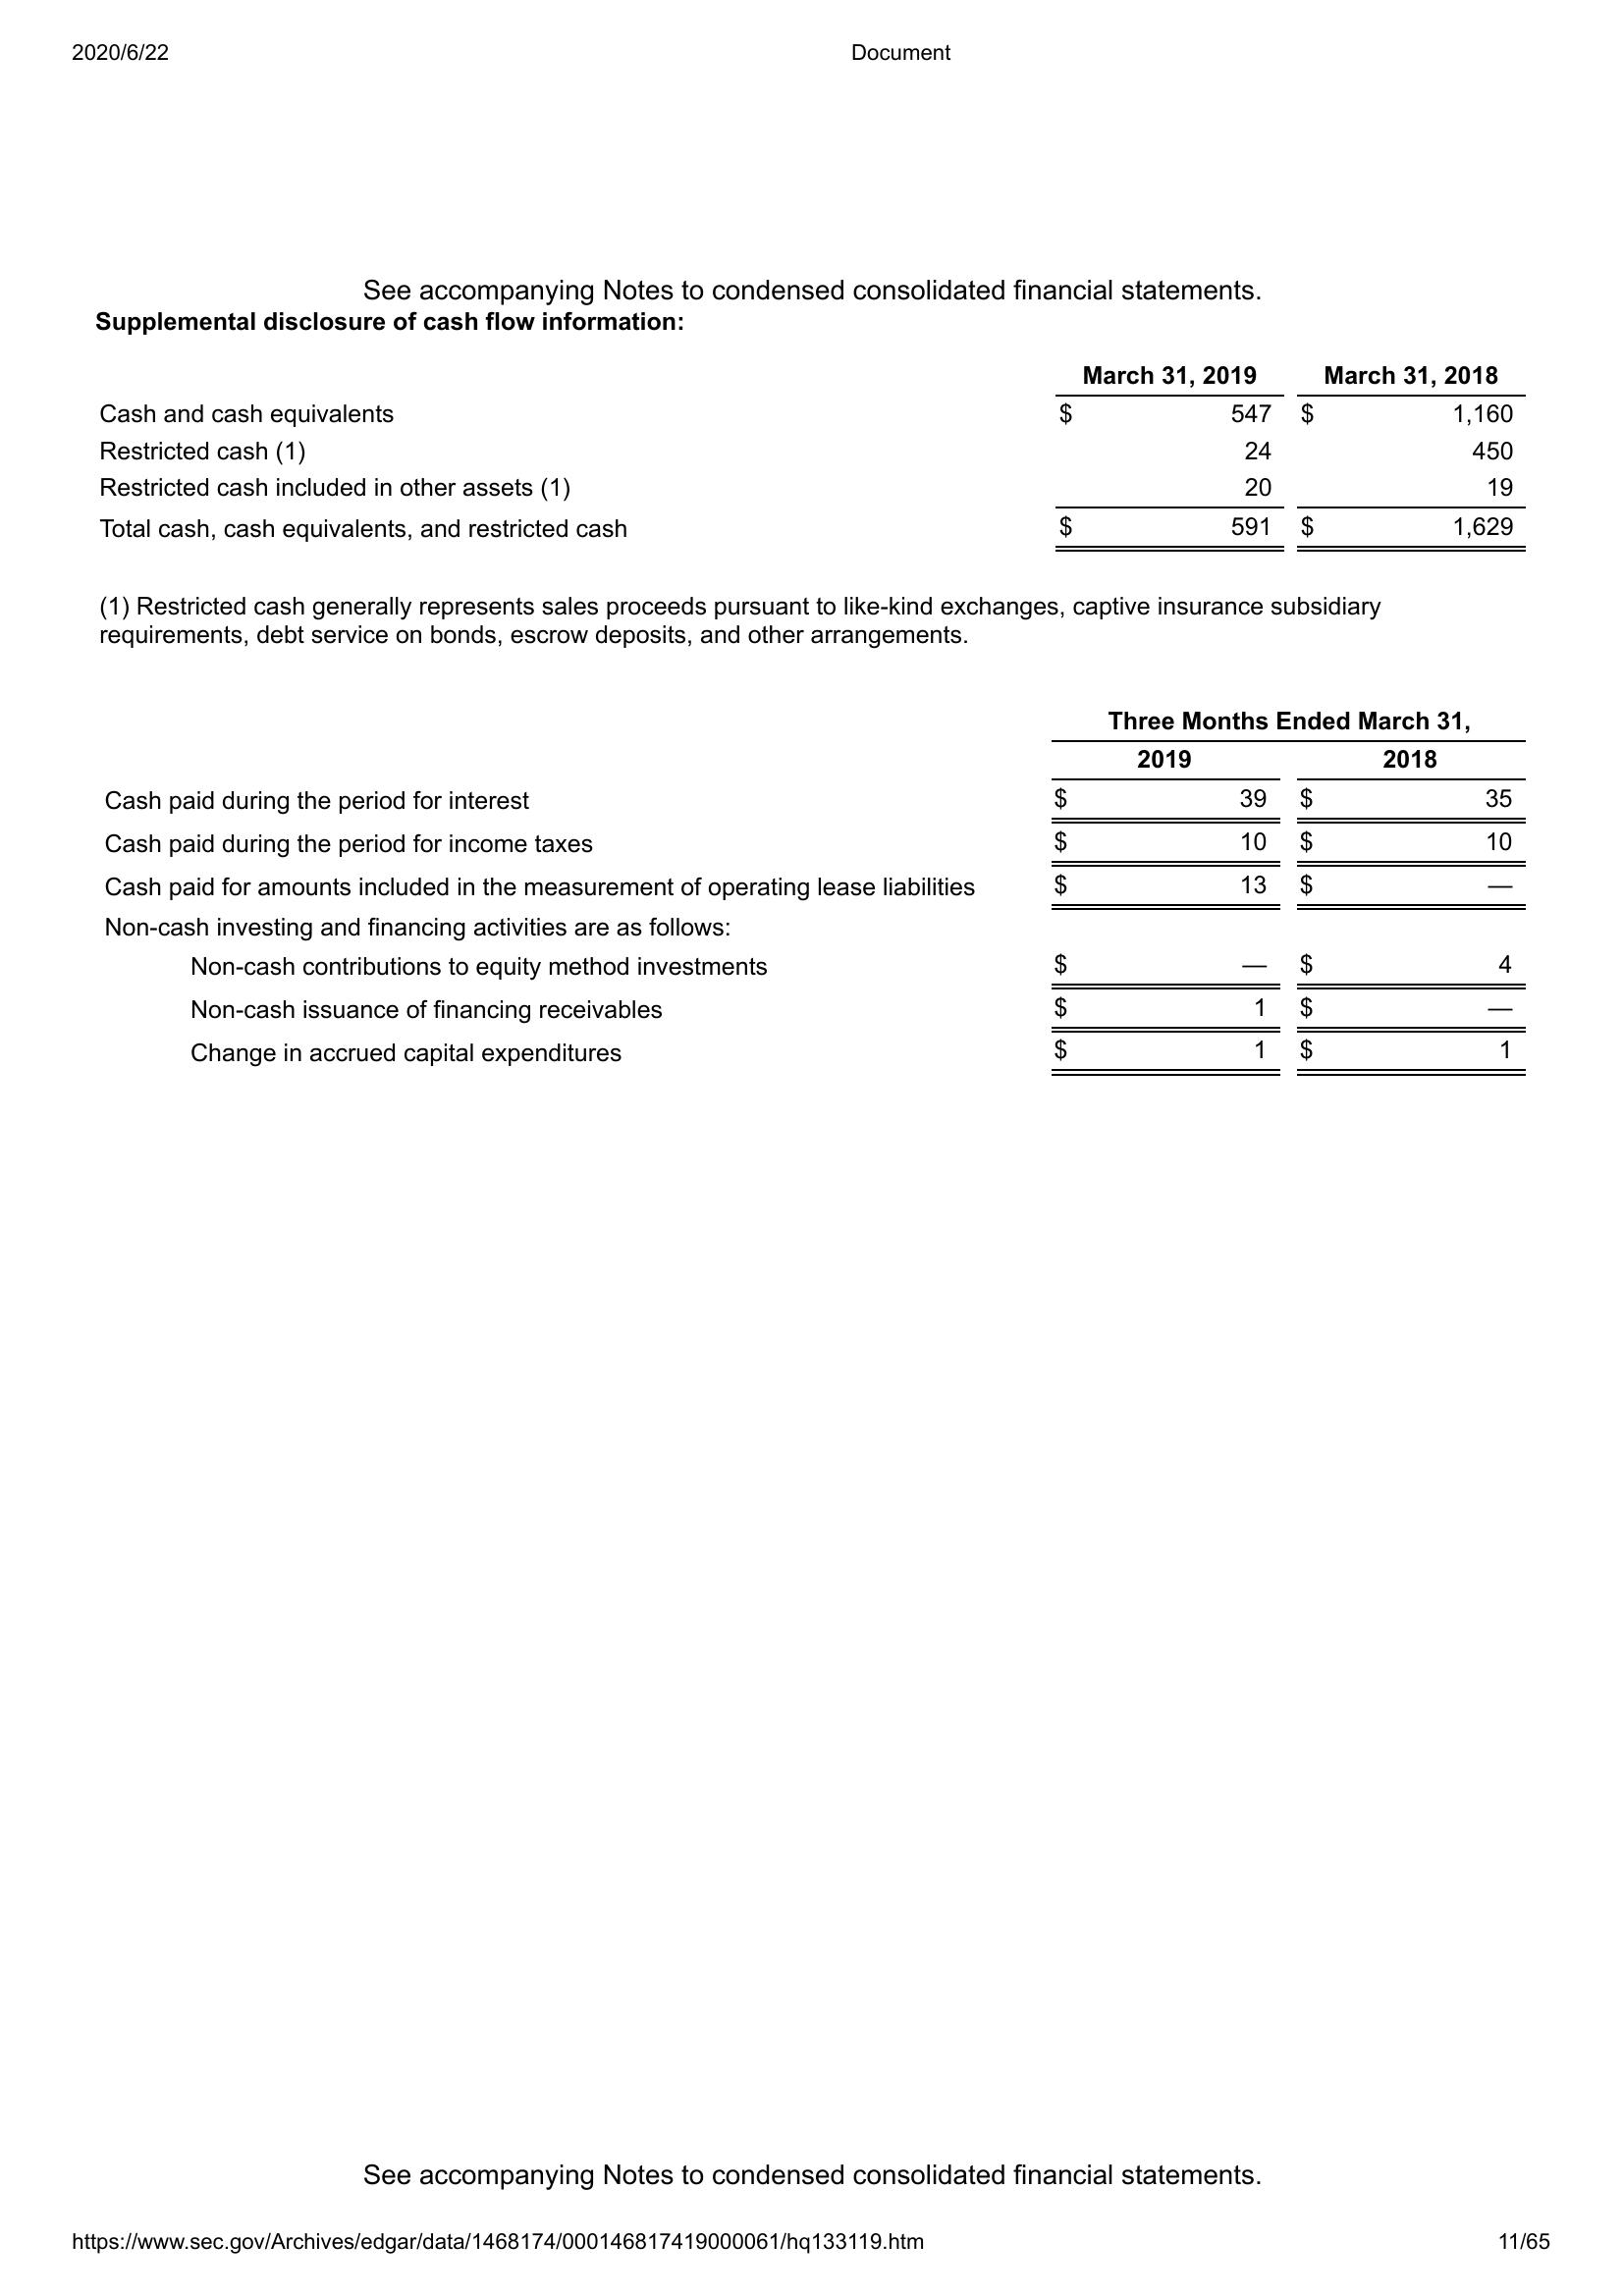table: (95, 702, 1535, 1083), (90, 353, 1539, 560)
